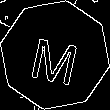M_N: (27, 26, 83, 84)
